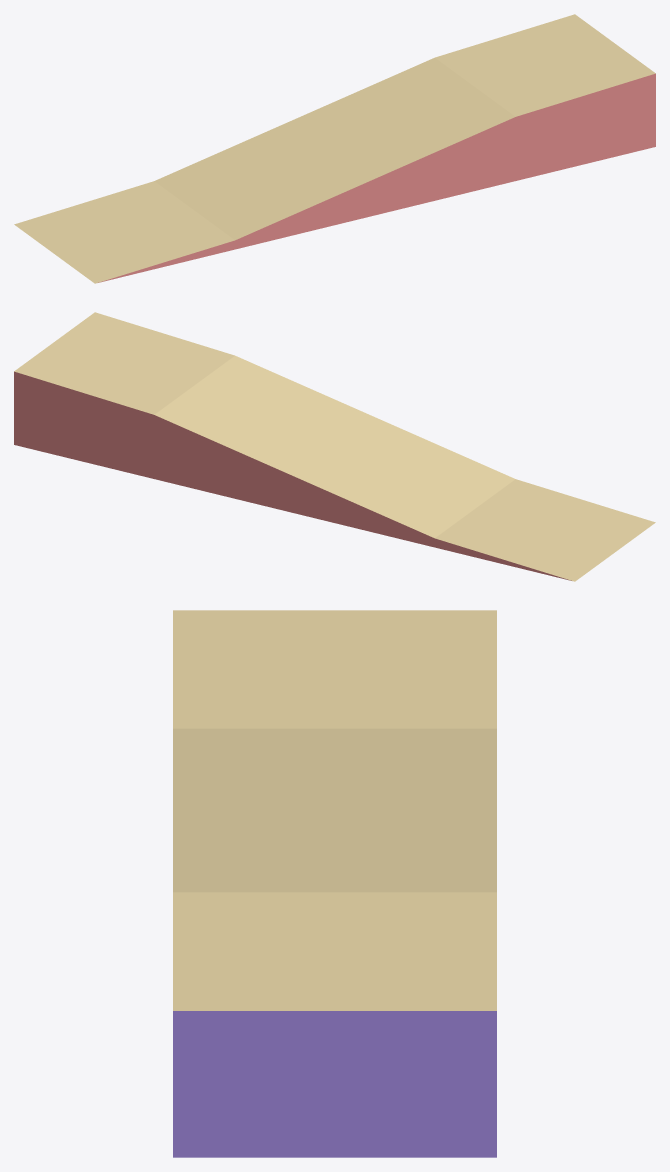
The model's file is Terrain_Sand_Incline_Straight_1x4.glb.
3 renders of one model, top to bottom at view 1: azimuth 30°, elevation 25°; view 2: azimuth 150°, elevation 25°; view 3: azimuth 270°, elevation 25°, orthographic. The views are drawn at different scales.
Parts seen in each view (by area): view 1: Terrain_Sand_Incline_Straight_1x4; view 2: Terrain_Sand_Incline_Straight_1x4; view 3: Terrain_Sand_Incline_Straight_1x4.
Boxes of the visible parts, left/top/right/bottom form: Terrain_Sand_Incline_Straight_1x4: left=14, top=14, right=655, bottom=283; Terrain_Sand_Incline_Straight_1x4: left=14, top=312, right=655, bottom=581; Terrain_Sand_Incline_Straight_1x4: left=173, top=610, right=496, bottom=1157.
Bounding box in the file's own units: 400 × 50 × 100.
